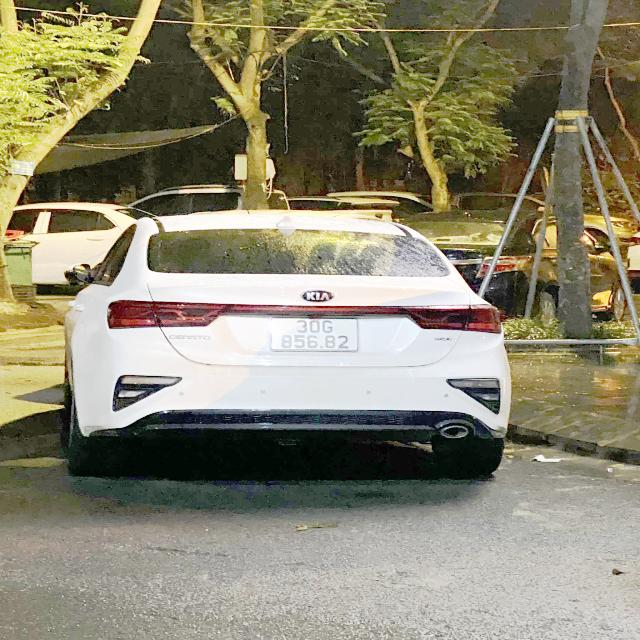license_plate: (272, 317, 361, 352)
